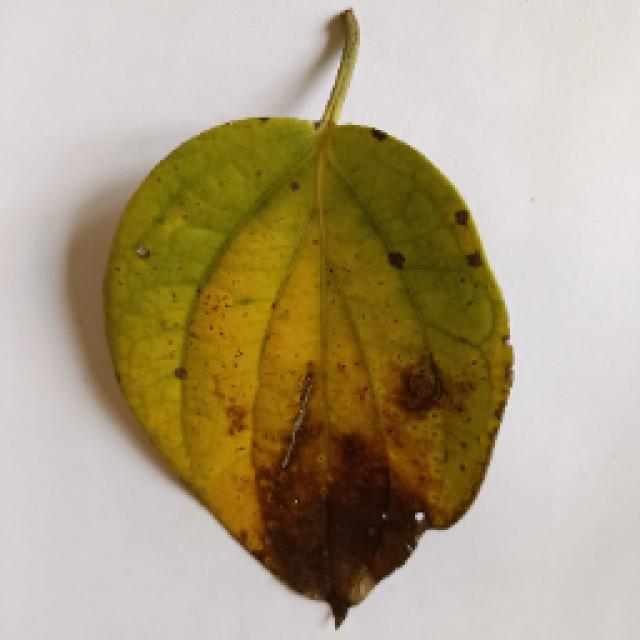slow-decline: (52, 18, 592, 630)
